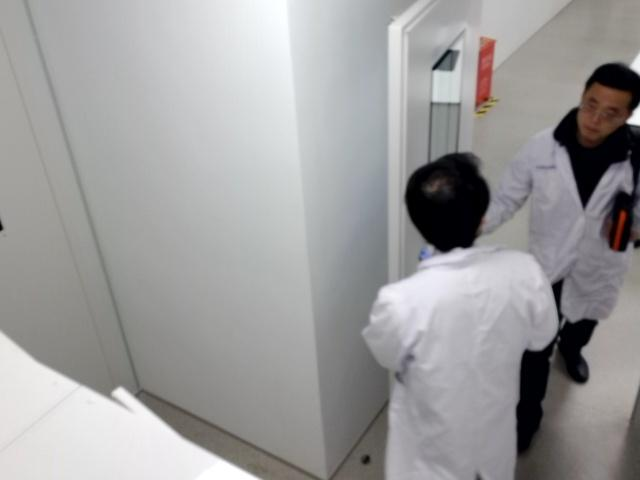Lab_coat: (362, 153, 556, 479), (482, 62, 639, 323)
